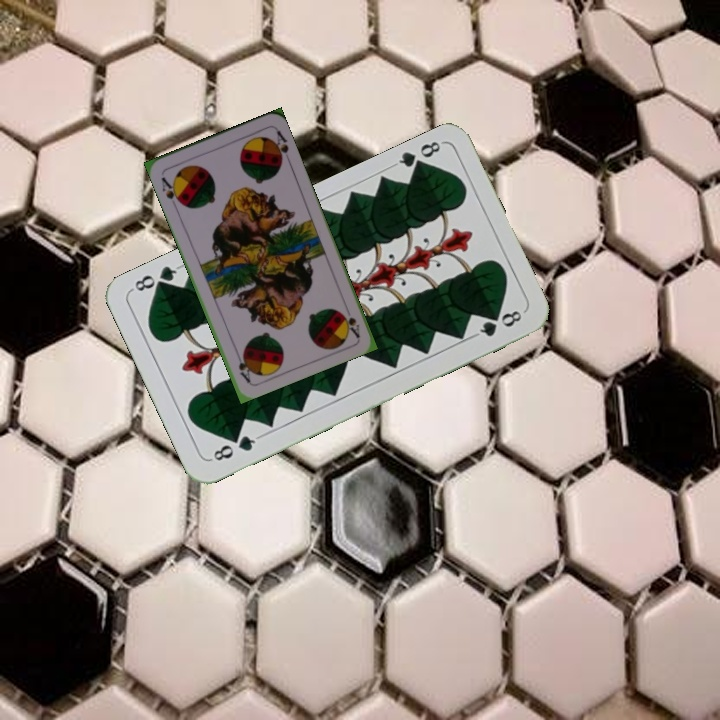G8: (389, 136, 445, 176), (206, 431, 262, 464)
SA: (337, 301, 362, 340), (157, 173, 185, 207)
